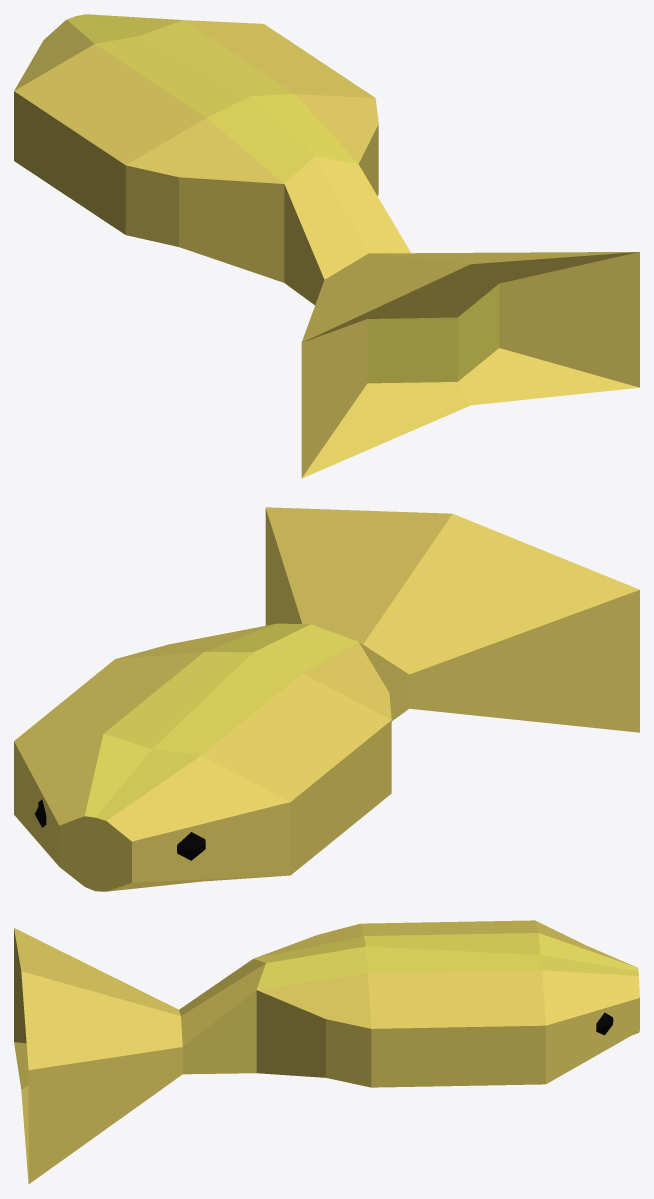
The model's file is creature.fbx.
The picture shows the model from 3 angles, top to bottom: view 1: azimuth 30°, elevation 25°; view 2: azimuth 150°, elevation 25°; view 3: azimuth 270°, elevation 25°; orthographic projection. The views are drawn at different scales.
Parts seen in each view (by area): view 1: creature; view 2: creature; view 3: creature.
Part boxes in pixels (x1,y1,x2,y2): creature: (14,14,639,478); creature: (14,507,639,891); creature: (14,920,639,1183).
Size of the model in its own units: 2113 by 1110 by 3921.
